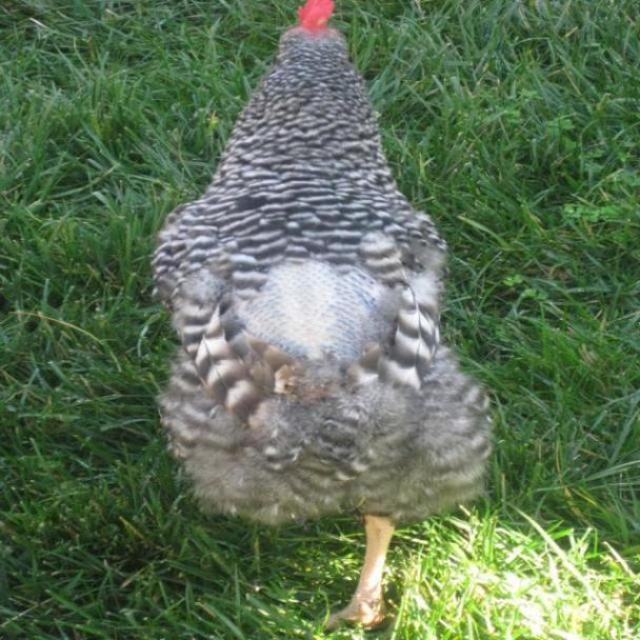Chicken: (135, 20, 488, 611)
